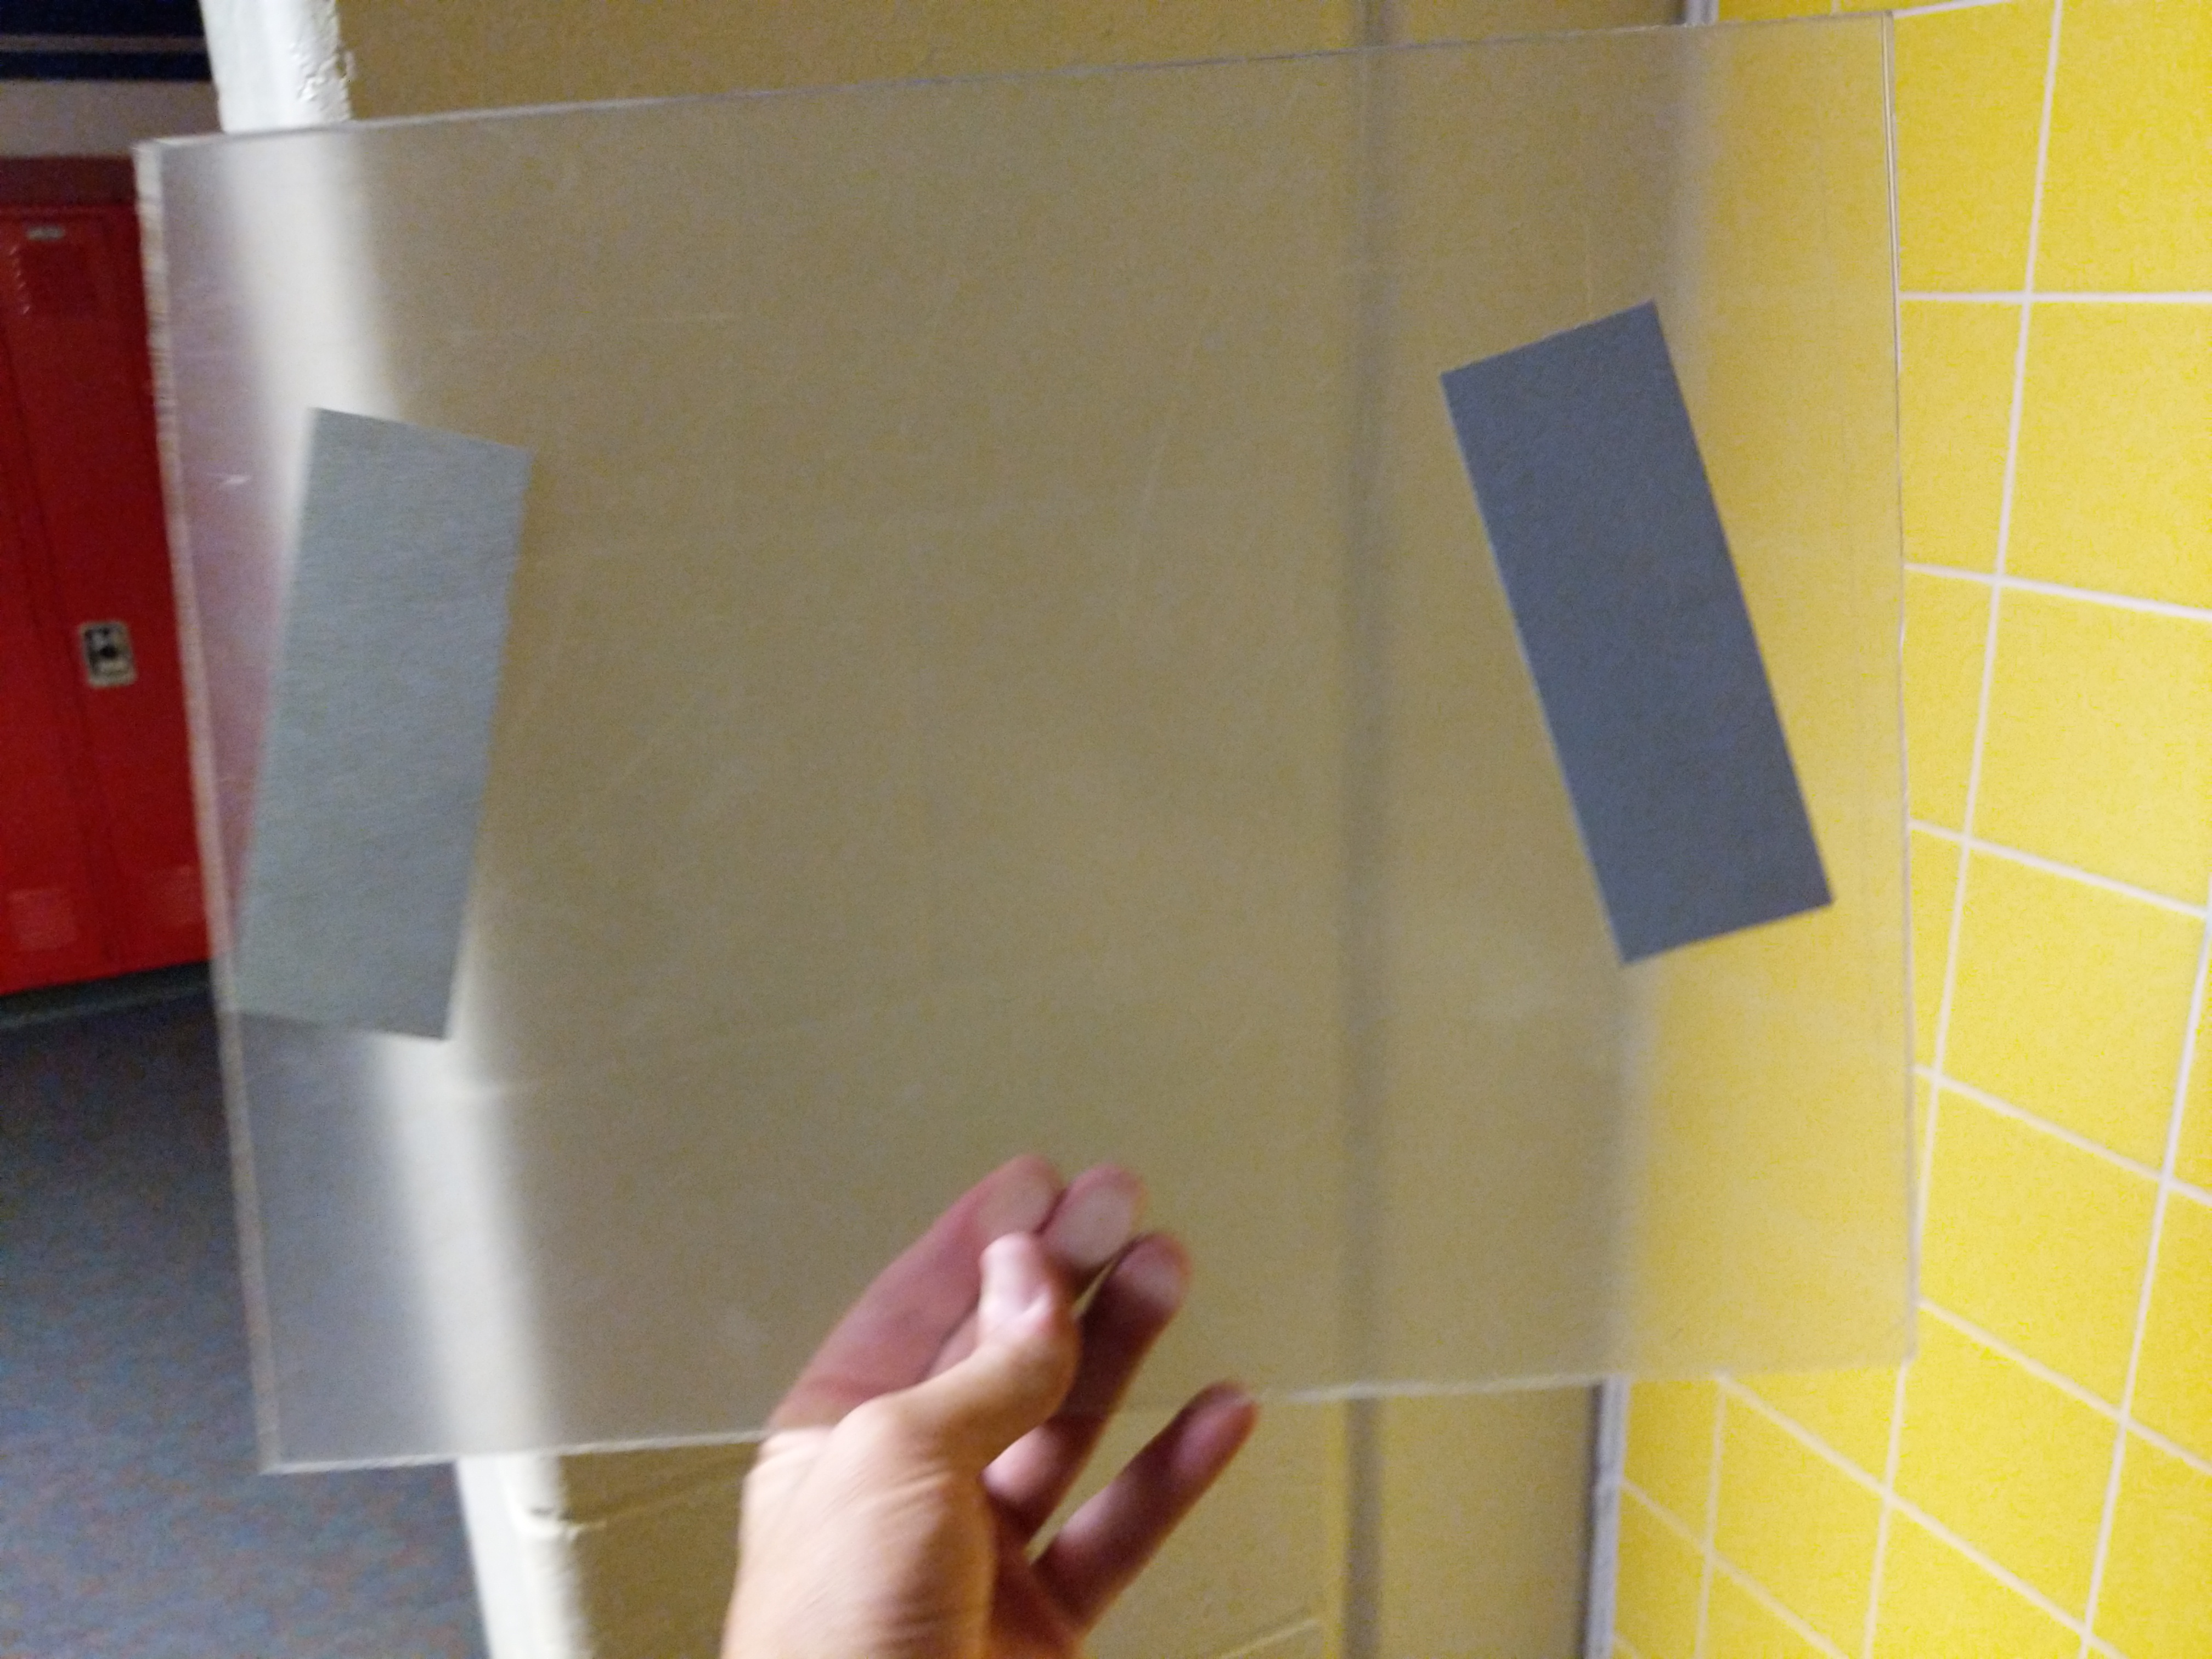vision_target: (216, 295, 1878, 1049)
